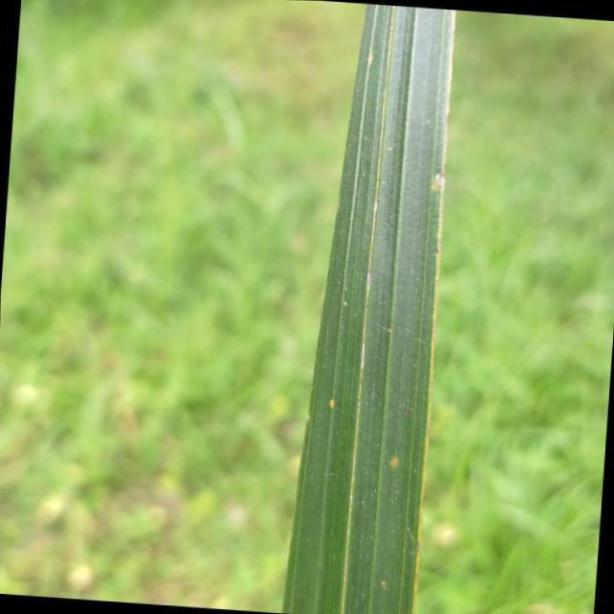Boron: (289, 1, 455, 614)
